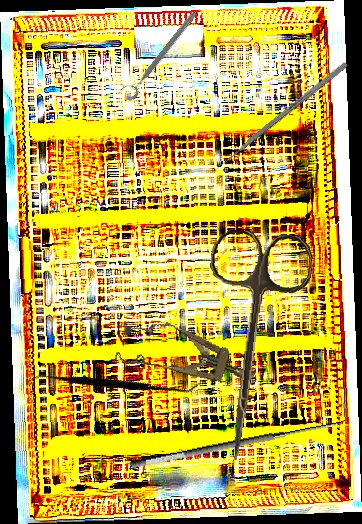Fixation Ring: (118, 5, 200, 103)
Hook Surgical: (126, 400, 355, 473)
Iris Scissors: (190, 227, 315, 466)
Pusher: (212, 61, 349, 173)
Spatula Surgical: (25, 307, 202, 458)
Speculum: (112, 310, 262, 402)
